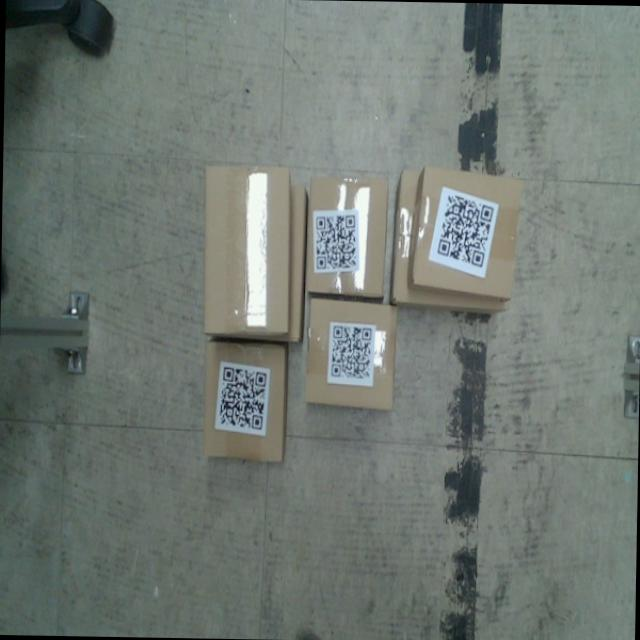box: (201, 164, 294, 335), (409, 164, 516, 301), (197, 339, 291, 463), (304, 172, 389, 301), (302, 297, 398, 411)
